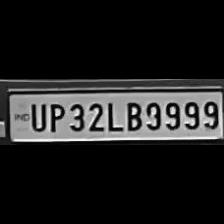2: (84, 99, 104, 133)
3: (65, 100, 85, 132)
9: (162, 98, 180, 130), (181, 98, 199, 130), (200, 98, 218, 130), (144, 97, 160, 130)
B: (123, 98, 143, 132)
L: (103, 98, 121, 132)
P: (46, 100, 64, 132)
U: (26, 100, 44, 132)
